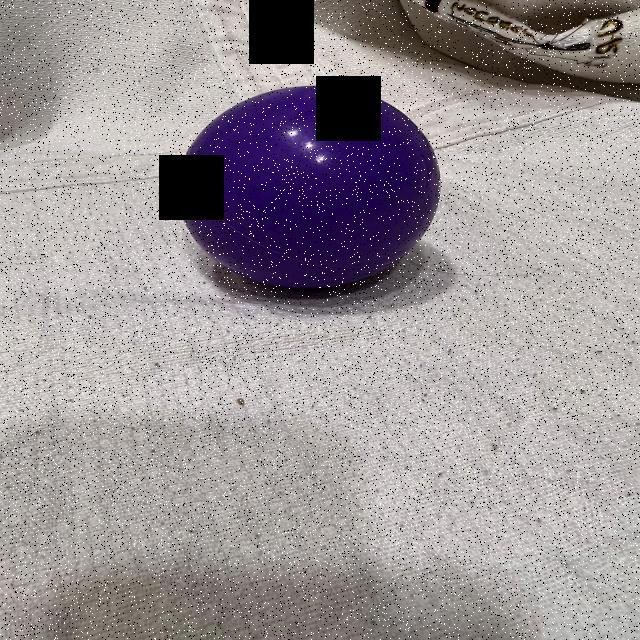ball: (170, 82, 446, 293)
